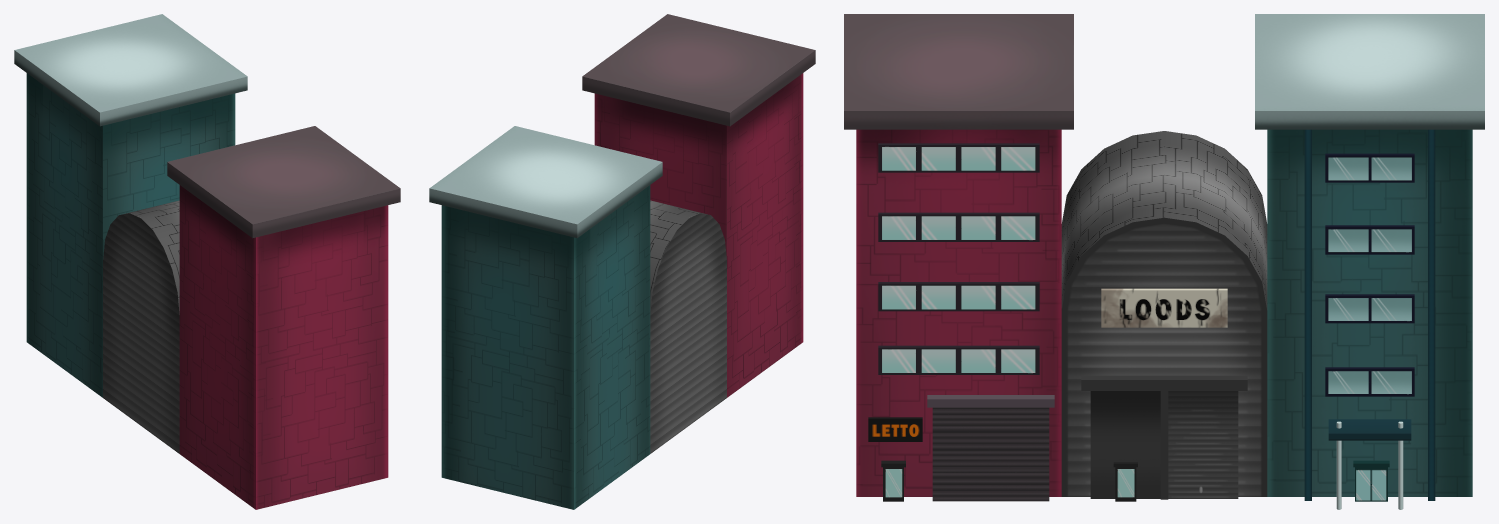
The model's file is Buildings 1.fbx.
3 views of the same model, side by side, from view 1: azimuth 30°, elevation 25°; view 2: azimuth 150°, elevation 25°; view 3: azimuth 270°, elevation 25° (orthographic). The views are drawn at different scales.
Visible parts, largest first — view 1: Gebouw_L, Gebouw_R, Loods; view 2: Gebouw_R, Gebouw_L, Loods; view 3: Gebouw_L, Gebouw_R, Loods.
Part boxes in pixels (bbox=[...]): Gebouw_L: bbox=[167, 126, 400, 509]; Gebouw_R: bbox=[14, 14, 247, 397]; Loods: bbox=[103, 200, 179, 453]; Gebouw_R: bbox=[429, 126, 662, 509]; Gebouw_L: bbox=[582, 14, 815, 397]; Loods: bbox=[650, 200, 726, 453]; Gebouw_L: bbox=[844, 14, 1073, 501]; Gebouw_R: bbox=[1255, 14, 1484, 509]; Loods: bbox=[1061, 131, 1267, 501].
Size of the model in its own units: 1227 by 2119 by 3118.
